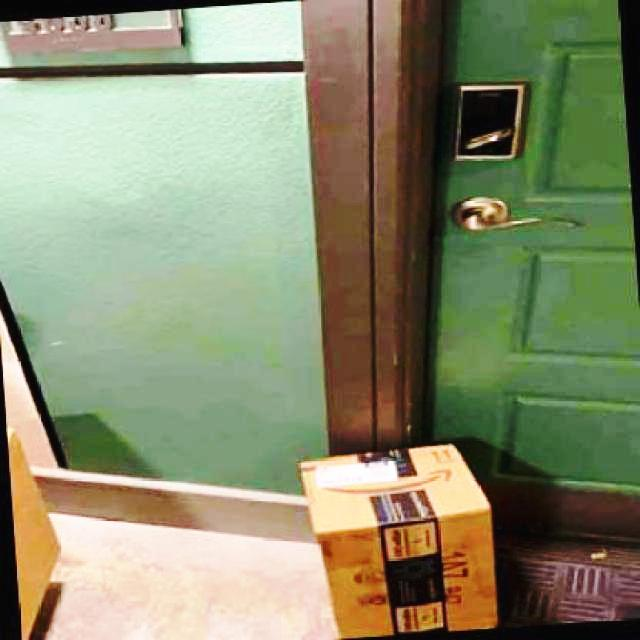Box: (300, 442, 503, 638)
